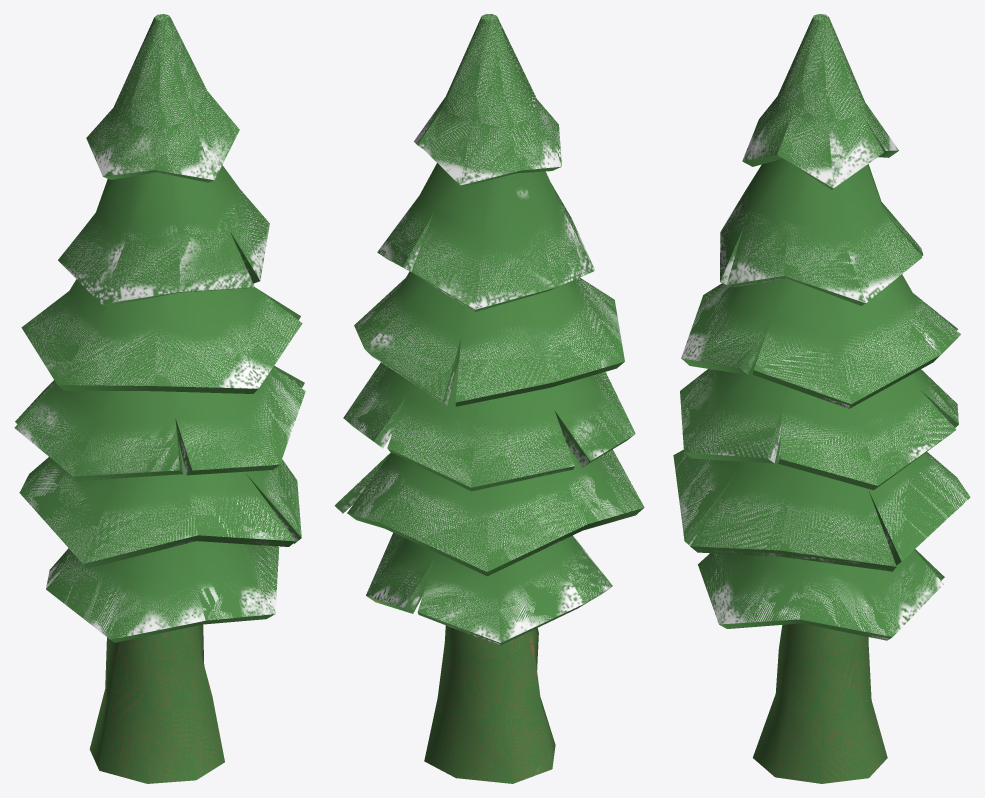
The model's file is winter_pine_tree.fbx.
3 views of the same model, side by side, from view 1: azimuth 30°, elevation 25°; view 2: azimuth 150°, elevation 25°; view 3: azimuth 270°, elevation 25° (orthographic).
Parts seen in each view (by area): view 1: GenTree; view 2: GenTree; view 3: GenTree.
Boxes of the visible parts, bbox=[...] form: GenTree: bbox=[14, 14, 305, 783]; GenTree: bbox=[334, 14, 644, 783]; GenTree: bbox=[673, 14, 970, 783].
Size of the model in its own units: 266 by 761 by 276.
Materials: 1 (1 with a texture image).
